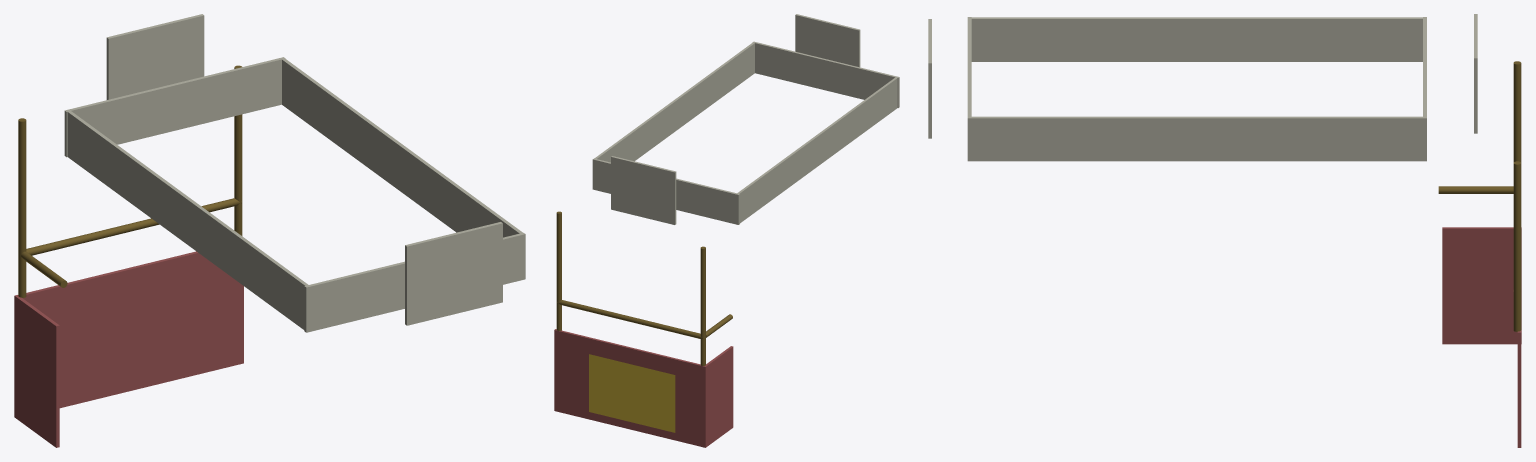
Rendered from single-gubbins.dae.
3 renders of one model, left to right at view 1: azimuth 30°, elevation 25°; view 2: azimuth 150°, elevation 25°; view 3: azimuth 270°, elevation 25°, orthographic. The views are drawn at different scales.
Visible parts, largest first — view 1: Cube_011, Cube_004, Cube_003, Cube_005, Cube_008, Cube_009, Cube_007, Cube_010, Cylinder_002, Cylinder_003, Cylinder_001; view 2: Cube_011, Cube_004, Plane_003, Cube_003, Cube_007, Cube_009, Cube_005, Cube_010, Cube_008, Cylinder_003, Cylinder_002, Cylinder_001; view 3: Cube_003, Cube_004, Cube_010, Cylinder_001, Cylinder_002, Cube_007, Cylinder_004, Cube_011, Cube_005.
Boxes of the visible parts, left/top/right/bottom form: Cube_011: left=22, top=251, right=243, bottom=408; Cube_004: left=67, top=110, right=308, bottom=329; Cube_003: left=281, top=58, right=524, bottom=237; Cube_005: left=64, top=57, right=285, bottom=157; Cube_008: left=405, top=222, right=502, bottom=325; Cube_009: left=106, top=14, right=204, bottom=99; Cube_007: left=304, top=233, right=525, bottom=332; Cube_010: left=14, top=295, right=59, bottom=447; Cylinder_002: left=18, top=118, right=26, bottom=297; Cylinder_003: left=26, top=198, right=241, bottom=255; Cylinder_001: left=234, top=65, right=242, bottom=235; Cube_011: left=554, top=329, right=703, bottom=447; Cube_004: left=737, top=77, right=898, bottom=223; Plane_003: left=589, top=354, right=675, bottom=432; Cube_003: left=594, top=42, right=755, bottom=162; Cube_007: left=753, top=41, right=899, bottom=107; Cube_009: left=611, top=156, right=676, bottom=224; Cube_005: left=592, top=159, right=739, bottom=224; Cube_010: left=703, top=346, right=733, bottom=447; Cube_008: left=795, top=14, right=860, bottom=67; Cylinder_003: left=557, top=300, right=702, bottom=338; Cylinder_002: left=700, top=246, right=705, bottom=365; Cylinder_001: left=556, top=211, right=561, bottom=330; Cube_003: left=969, top=116, right=1424, bottom=161; Cube_004: left=968, top=17, right=1425, bottom=61; Cube_010: left=1442, top=227, right=1521, bottom=344; Cylinder_001: left=1513, top=161, right=1521, bottom=331; Cylinder_002: left=1513, top=61, right=1521, bottom=162; Cube_007: left=967, top=17, right=971, bottom=161; Cylinder_004: left=1438, top=186, right=1513, bottom=193; Cube_011: left=1517, top=330, right=1521, bottom=447; Cube_005: left=1423, top=17, right=1426, bottom=161.
Bounding box in the file's own units: 1.31 × 3.13 × 2.1.
